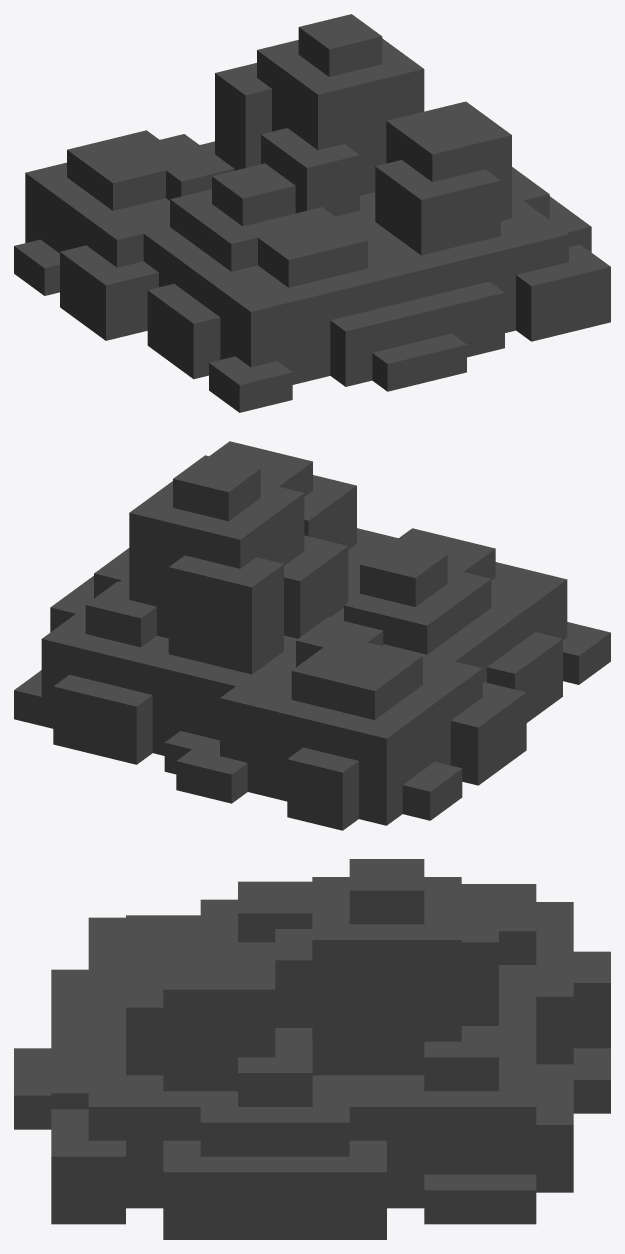
File: stone_6.obj
The picture shows the model from 3 angles, top to bottom: view 1: azimuth 30°, elevation 25°; view 2: azimuth 150°, elevation 25°; view 3: azimuth 270°, elevation 25°; orthographic projection. The views are drawn at different scales.
Bounding box in the file's own units: 1.6 × 0.8 × 1.6.
1 material, 1 textured.
